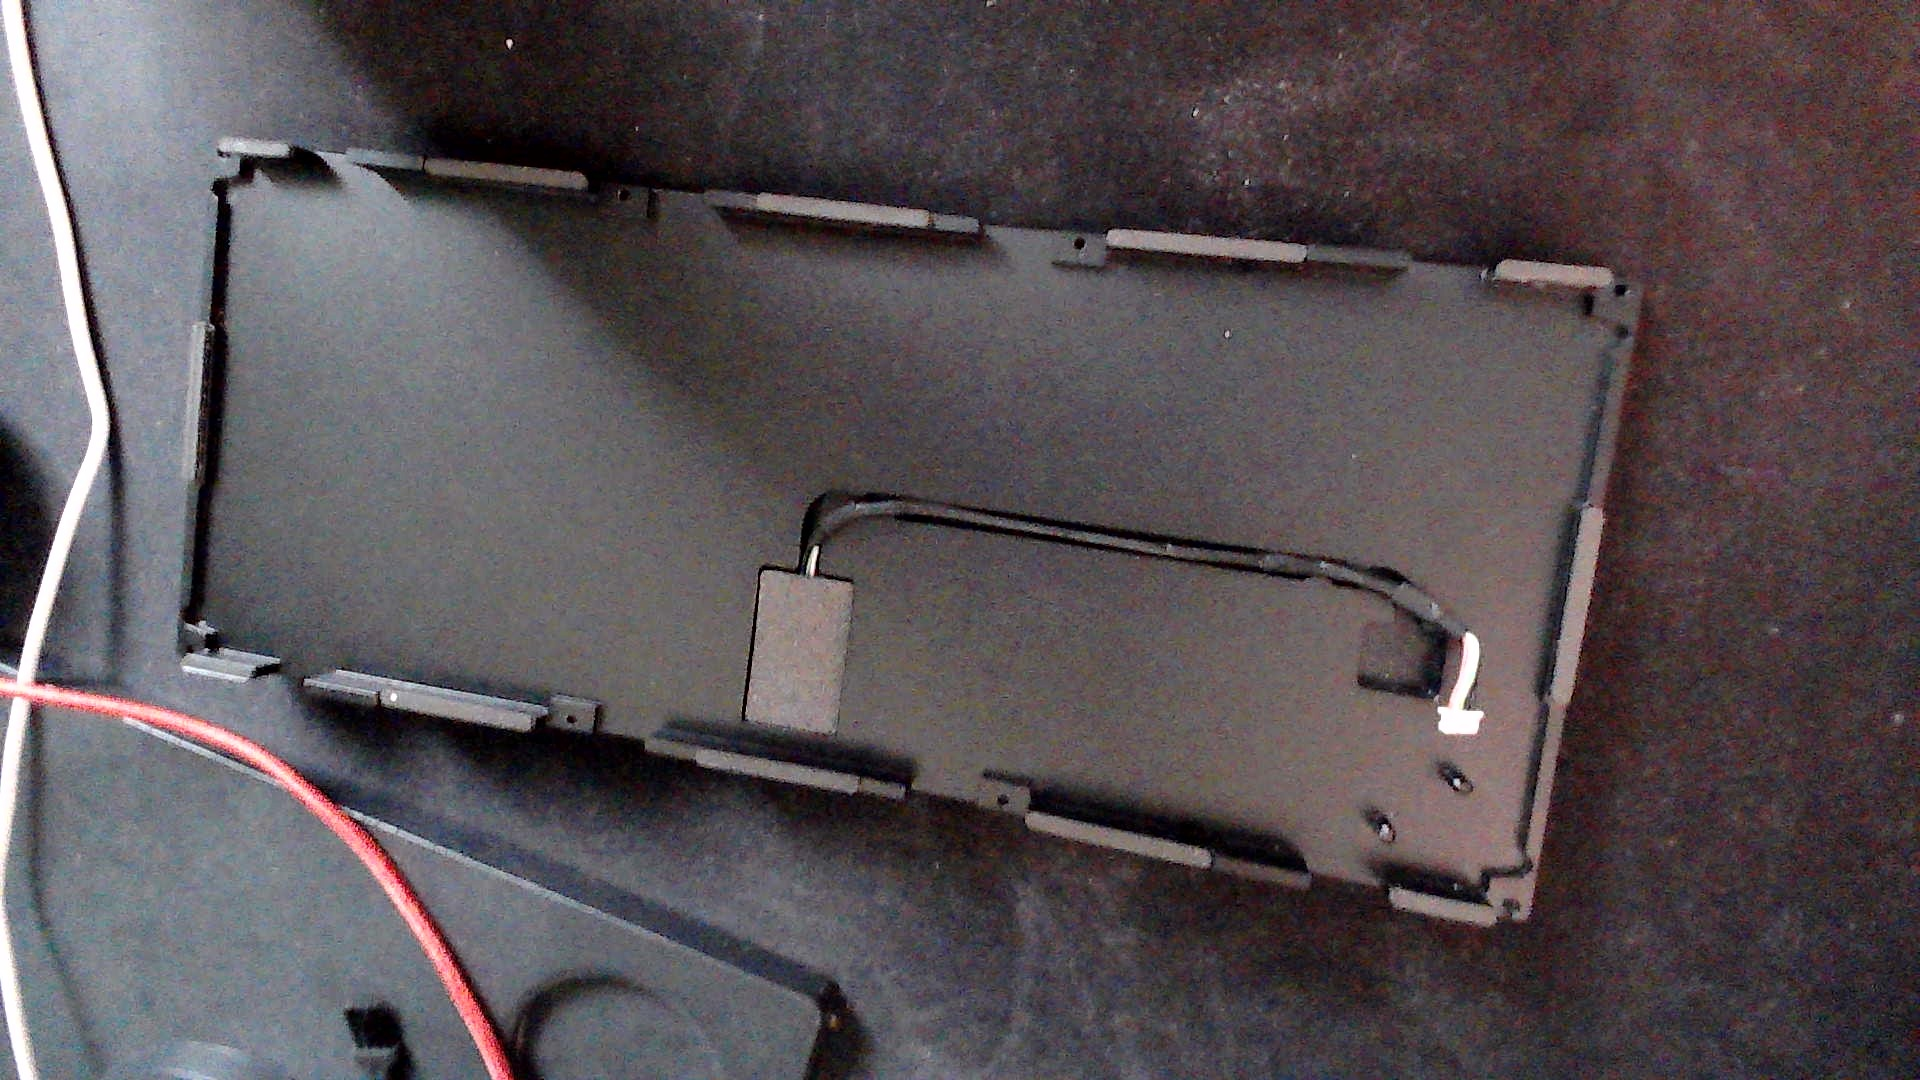case: (156, 128, 1676, 982)
